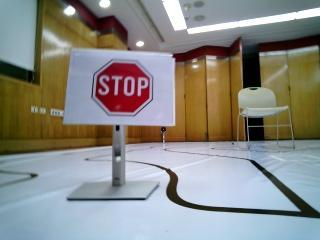stop: (76, 61, 170, 123)
